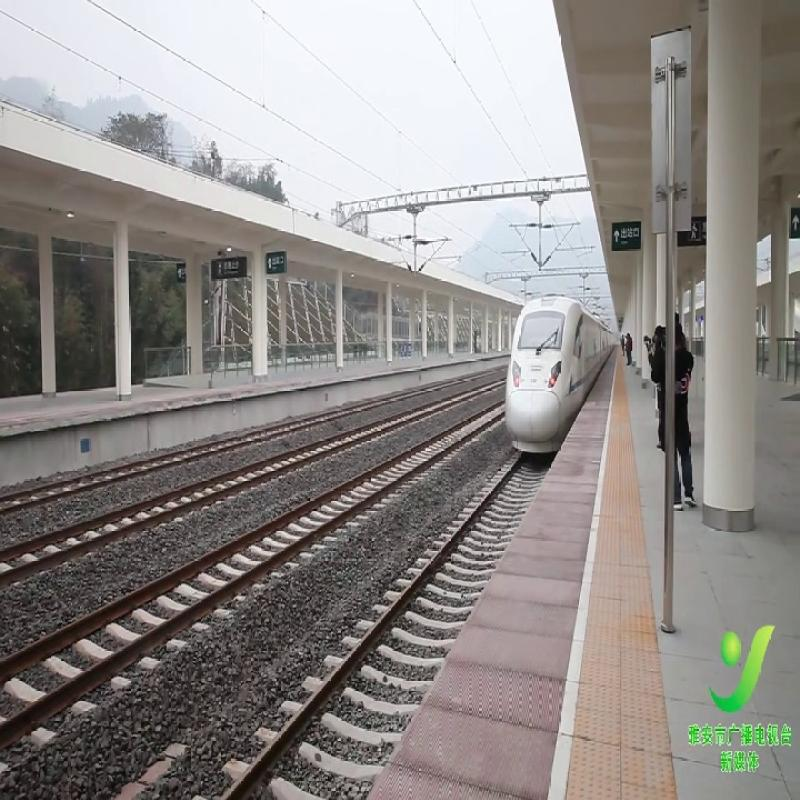train: (512, 299, 590, 457)
